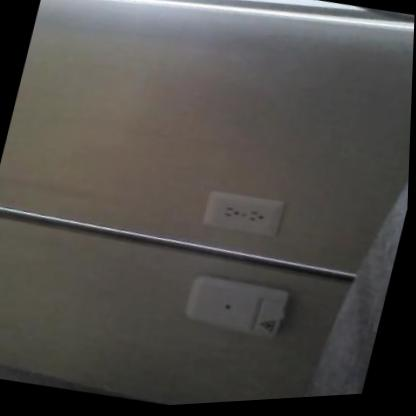OUTLET: (200, 185, 284, 240)
